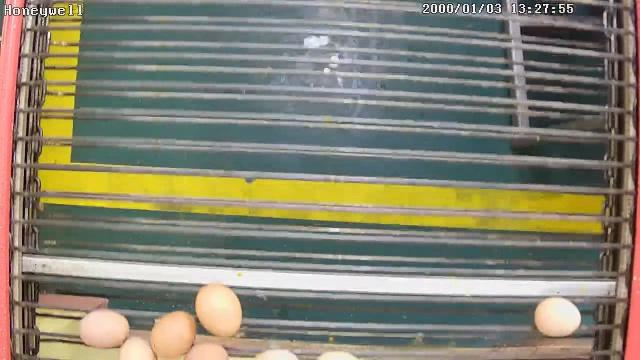egg: (193, 280, 244, 339), (149, 310, 197, 360), (76, 308, 131, 350), (532, 296, 584, 340)
